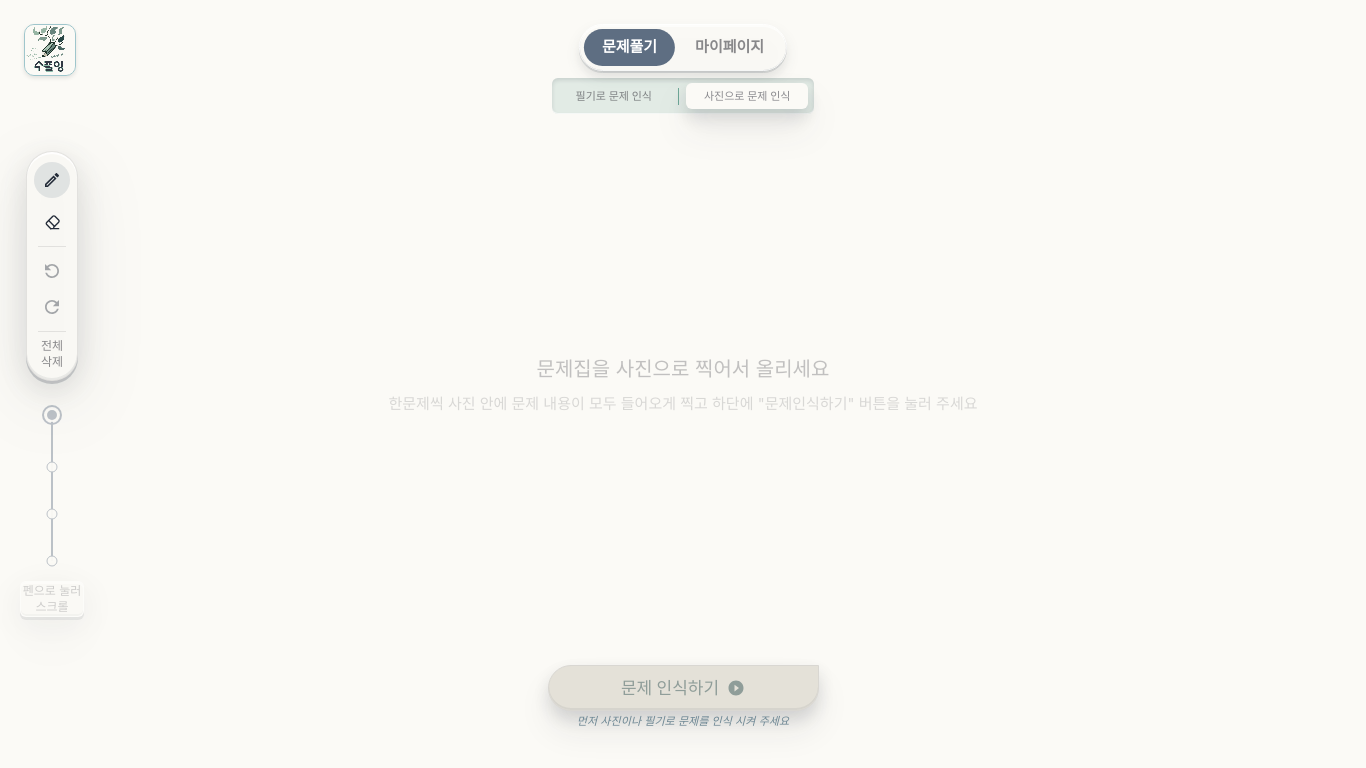
Test: 페이지 래퍼 사전 렌더 규칙(N-2) › 단계 표지가 있으면 도형 단계가 끝나도(empty) aria-live=off 래퍼가 같은 노드로 남고 내용은 비어 있다
Press the mouse on the drawing at (683, 384), box [0,0,1365,767]
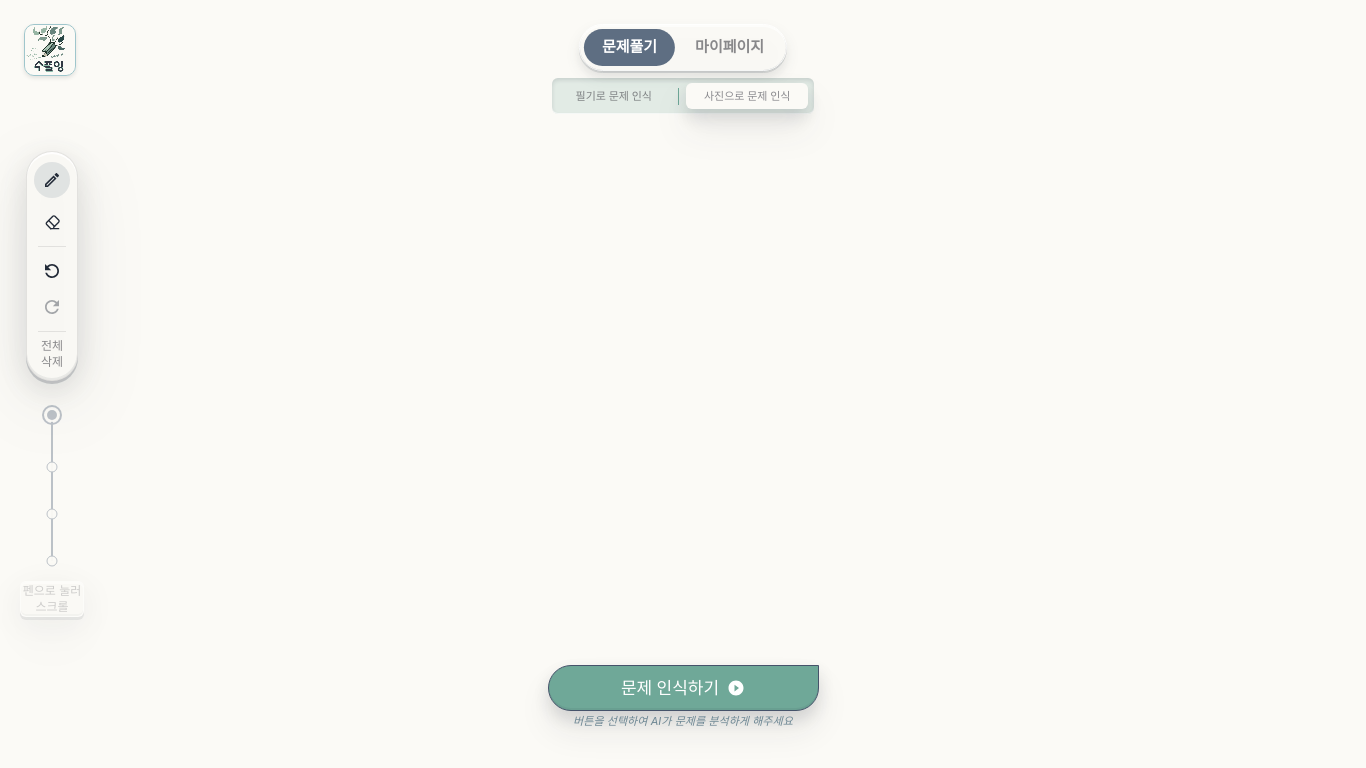
Click the button "문제 인식하기".
click(683, 688)  # box [548,665,818,711]
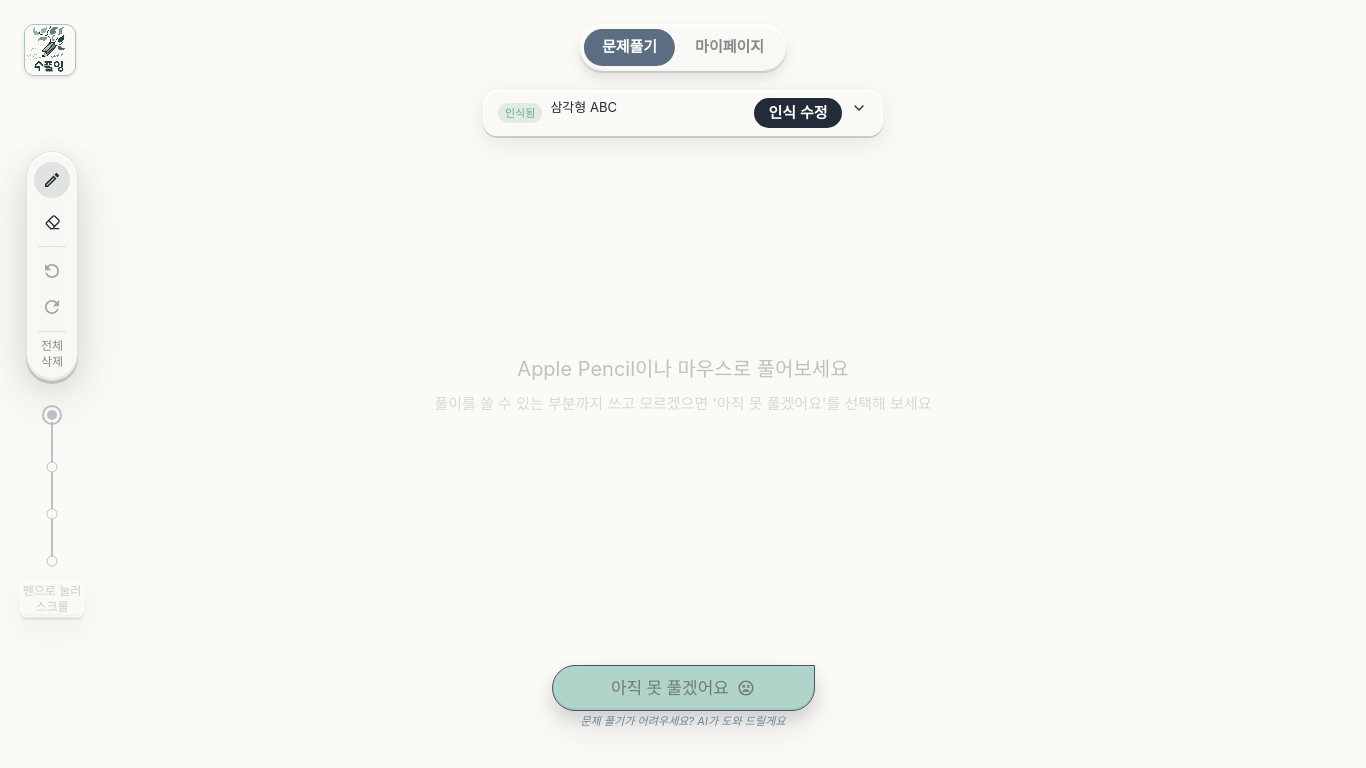
Now the button "아직 못 풀겠어요" is enabled
Click the button "아직 못 풀겠어요".
click(683, 688)  # box [552,665,814,711]
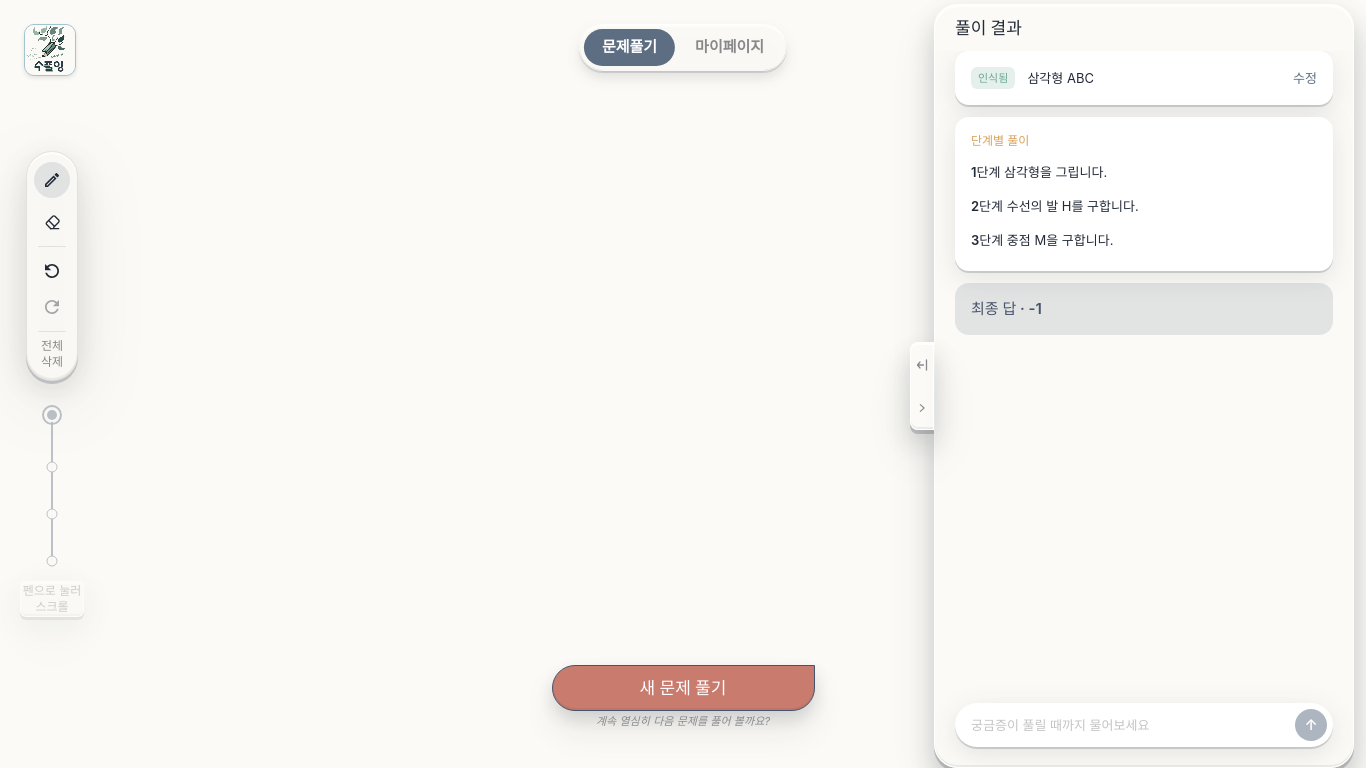
Now the heading "풀이 결과" is shown, box [955,17,1022,39]
